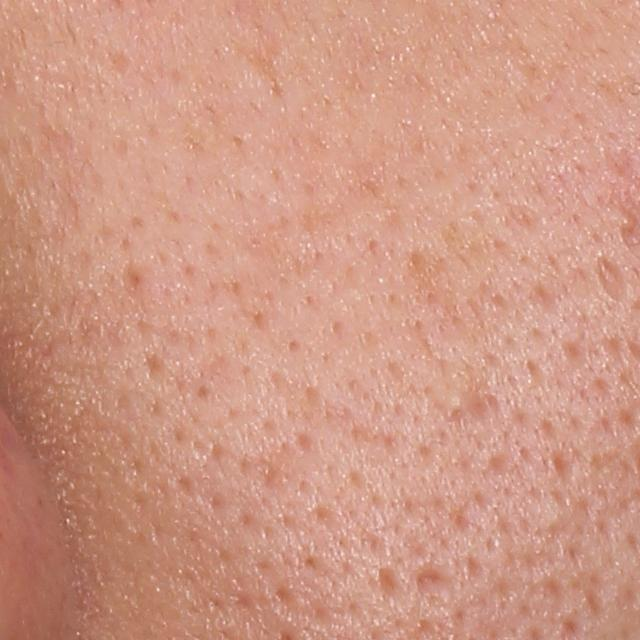atrophic_scar: (592, 253, 630, 304), (373, 566, 408, 608), (413, 565, 459, 594)
